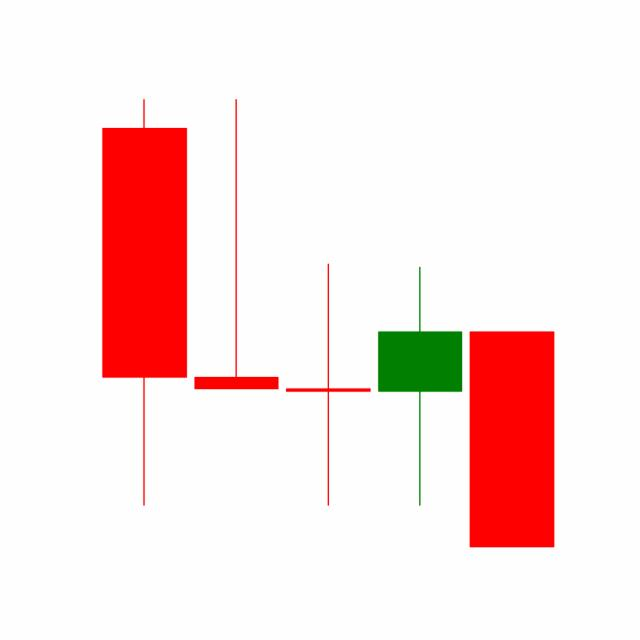Marubozu: (464, 328, 558, 550)
